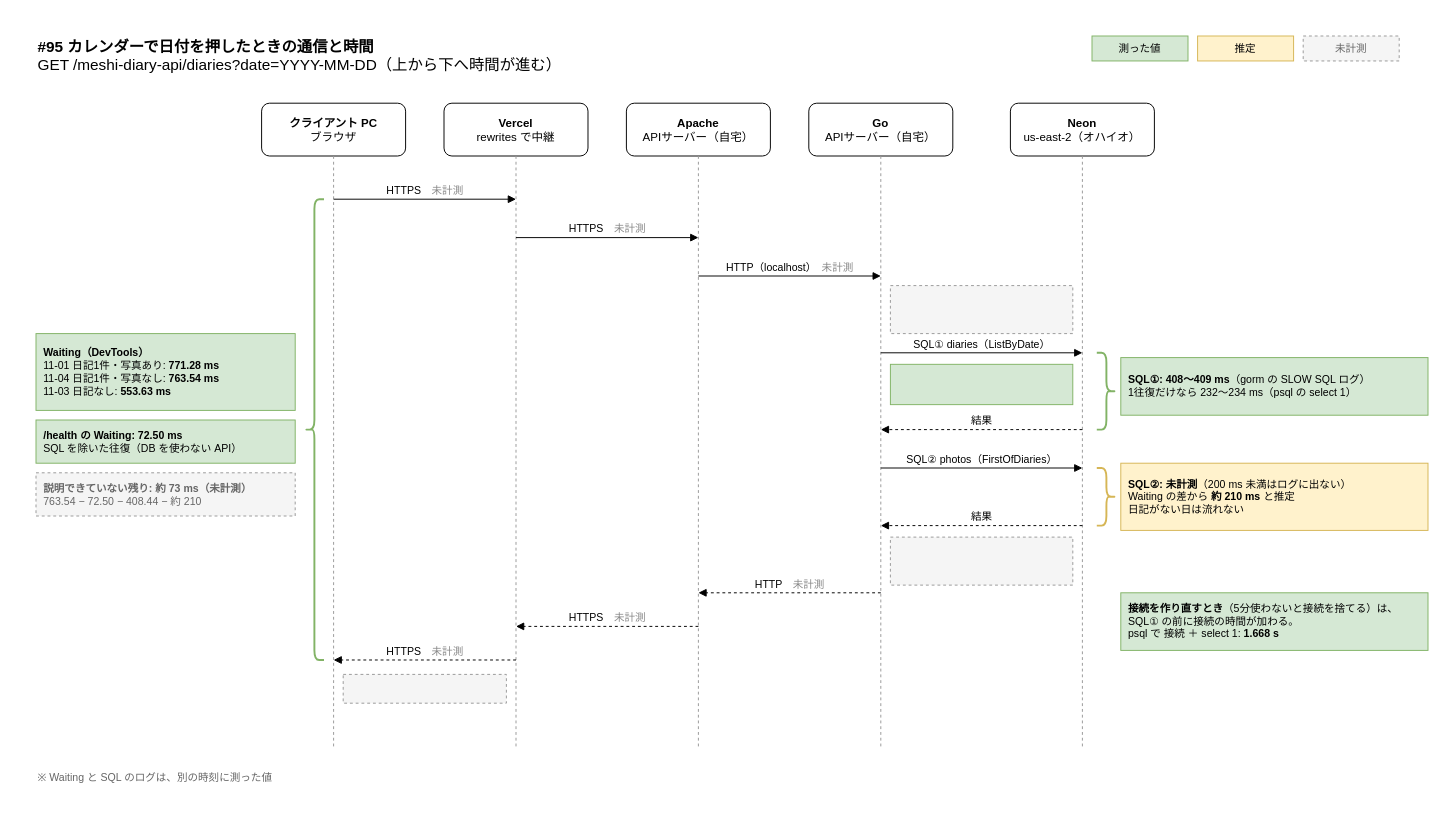
This 1453x820 diagram has some shape labels left out. Each missing label, with the centre of its shape:
"Content Download: 未計測" goes at point (424, 688).
"JSON 作成・署名付き URL 作成（R2 とは通信しない）: 未計測" goes at point (981, 560).
"Neon の中: 0.1 ms （Planning 0.061 + Execution 0.038）" goes at point (981, 384).
"セッション確認（Cookie の署名を確かめるだけ。DB は使わない）: 未計測" goes at point (981, 309).
